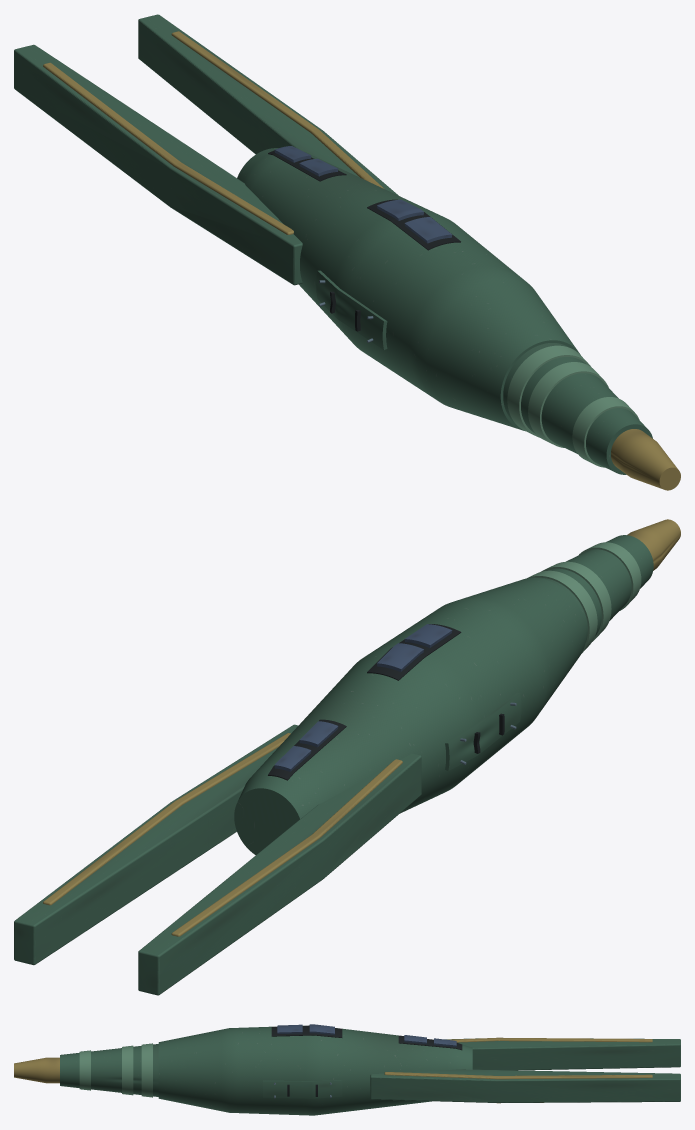
3 renders of one model, top to bottom at view 1: azimuth 30°, elevation 25°; view 2: azimuth 150°, elevation 25°; view 3: azimuth 270°, elevation 25°, orthographic. The views are drawn at different scales.
Visible parts, largest first — view 1: Rigellian Flare green core, Rigellian Flare rear prong 0, Rigellian Flare rear prong 1, Rigellian Flare forward neck, Rigellian Flare gold forward fitting, Rigellian Flare gold rail 0, Rigellian Flare gold rail 1, Rigellian Flare service cover 1, Rigellian Flare pale band 2, Rigellian Flare pale band 1, Rigellian Flare pale band 0, Rigellian Flare centre recess surround 0 (+1 smaller); view 2: Rigellian Flare green core, Rigellian Flare rear prong 0, Rigellian Flare rear prong 1, Rigellian Flare forward neck, Rigellian Flare gold rail 0, Rigellian Flare gold rail 1, Rigellian Flare service cover 1, Rigellian Flare gold forward fitting, Rigellian Flare pale band 2, Rigellian Flare pale band 1, Rigellian Flare pale band 0, Rigellian Flare centre recess surround 0 (+2 smaller); view 3: Rigellian Flare green core, Rigellian Flare rear prong 1, Rigellian Flare rear prong 0, Rigellian Flare forward neck, Rigellian Flare service cover 0, Rigellian Flare gold rail 1, Rigellian Flare gold forward fitting, Rigellian Flare gold rail 0, Rigellian Flare pale band 2, Rigellian Flare pale band 1, Rigellian Flare pale band 0, Rigellian Flare centre recess surround 0 (+4 smaller).
Part boxes in pixels (x1,y1,x2,y2): Rigellian Flare green core: (237,148,580,430); Rigellian Flare rear prong 0: (14,44,302,285); Rigellian Flare rear prong 1: (138,14,398,195); Rigellian Flare forward neck: (503,343,652,474); Rigellian Flare gold forward fitting: (611,429,680,490); Rigellian Flare gold rail 0: (43,62,293,234); Rigellian Flare gold rail 1: (171,31,384,188); Rigellian Flare service cover 1: (316,270,387,349); Rigellian Flare pale band 2: (507,345,590,437); Rigellian Flare pale band 1: (528,362,608,447); Rigellian Flare pale band 0: (572,397,639,467); Rigellian Flare centre recess surround 0: (367,199,460,250); Rigellian Flare green core: (234,577,586,854); Rigellian Flare rear prong 0: (138,753,421,995); Rigellian Flare rear prong 1: (14,724,298,965); Rigellian Flare forward neck: (537,535,653,642); Rigellian Flare gold rail 0: (171,759,402,936); Rigellian Flare gold rail 1: (43,733,290,905); Rigellian Flare service cover 1: (445,692,521,771); Rigellian Flare gold forward fitting: (627,519,680,570); Rigellian Flare pale band 2: (527,570,597,653); Rigellian Flare pale band 1: (541,561,611,641); Rigellian Flare pale band 0: (579,542,641,610); Rigellian Flare centre recess surround 0: (367,624,461,680); Rigellian Flare green core: (158,1025,472,1115); Rigellian Flare rear prong 1: (370,1069,680,1102); Rigellian Flare rear prong 0: (445,1038,680,1070); Rigellian Flare forward neck: (60,1044,158,1096); Rigellian Flare service cover 0: (263,1080,342,1098); Rigellian Flare gold rail 1: (384,1072,652,1103); Rigellian Flare gold forward fitting: (14,1057,59,1083); Rigellian Flare gold rail 0: (447,1037,652,1042); Rigellian Flare pale band 2: (141,1043,152,1097); Rigellian Flare pale band 1: (122,1045,133,1095); Rigellian Flare pale band 0: (79,1050,90,1090); Rigellian Flare centre recess surround 0: (271,1025,342,1037).
Size of the model in its own units: 0.36 by 0.329 by 2.36.
Materials: 6 (3 with a texture image).
